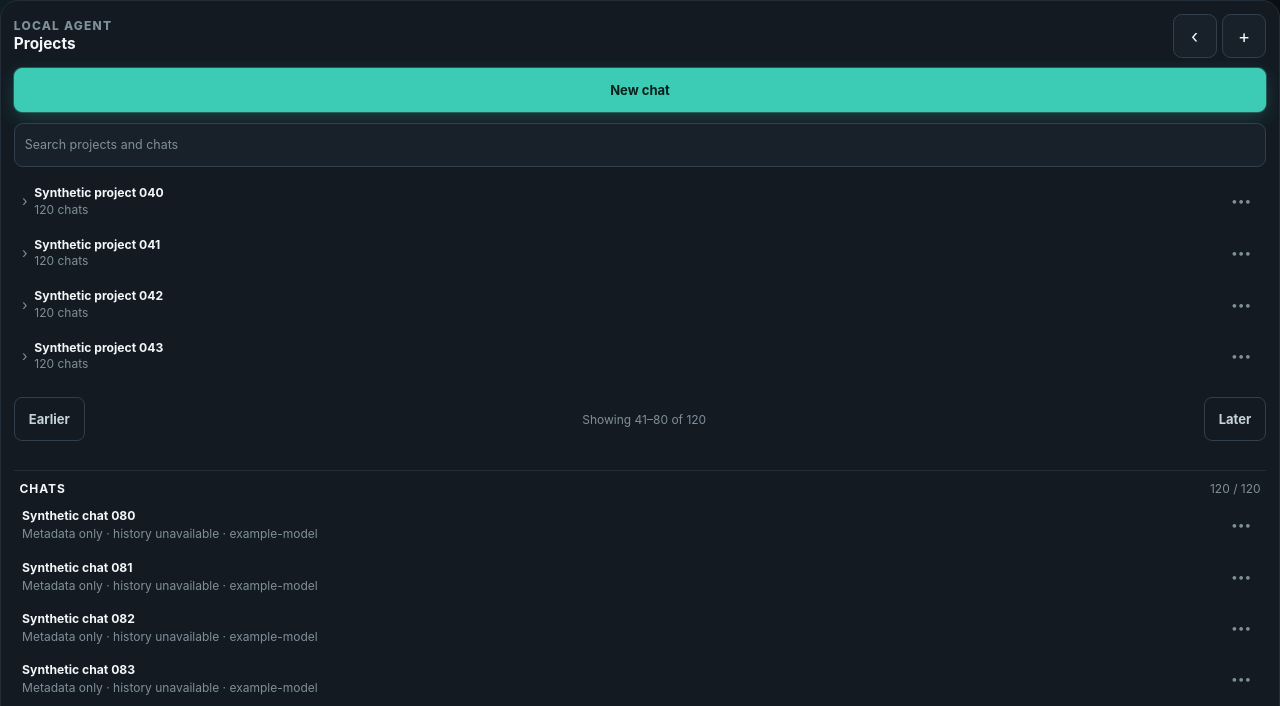
Test: AgentCatalogRail › bounds maximum returned project and chat collections while keeping current selections visible
This screenshot has width=1280, height=706.
Expected: the text "Showing 41–80 of 120" is shown, [582,412,706,427]
Click the button "Later".
click(1235, 419)  # box [1204,397,1266,441]
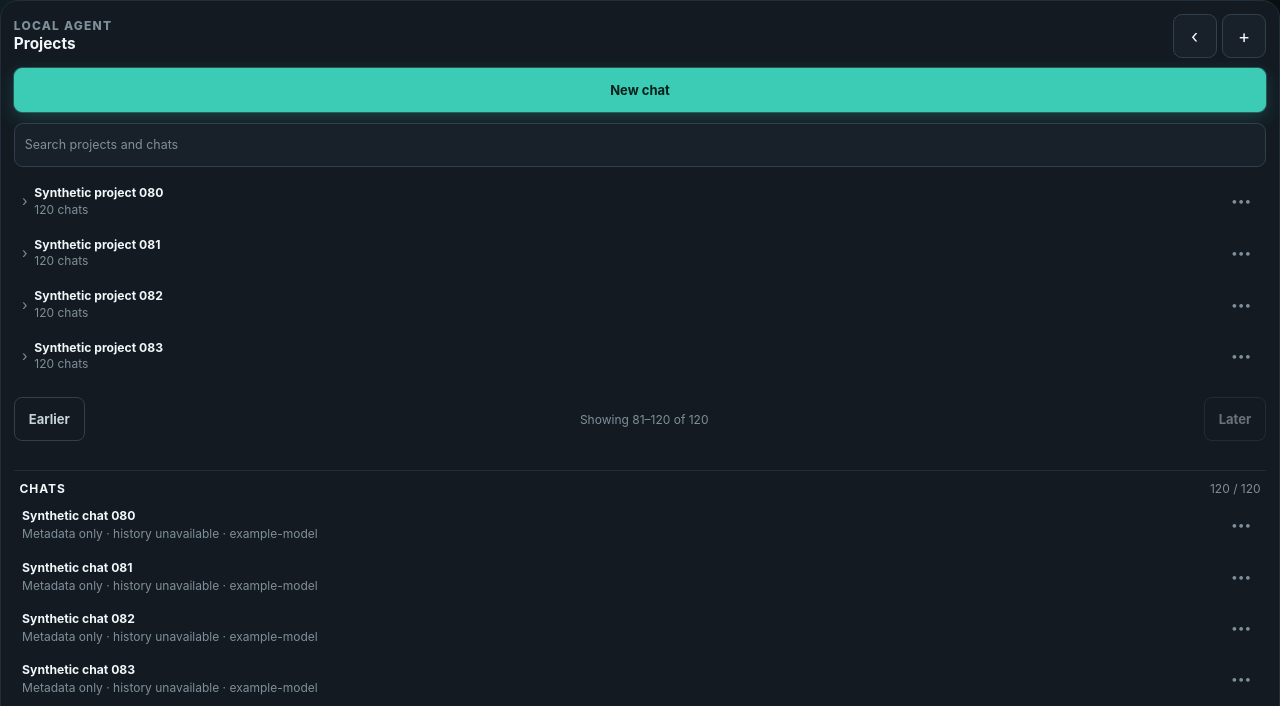
Expected: the text "Synthetic project 080" is shown, [34,185,163,200]
Expected: the button "Synthetic project 040" is gone
